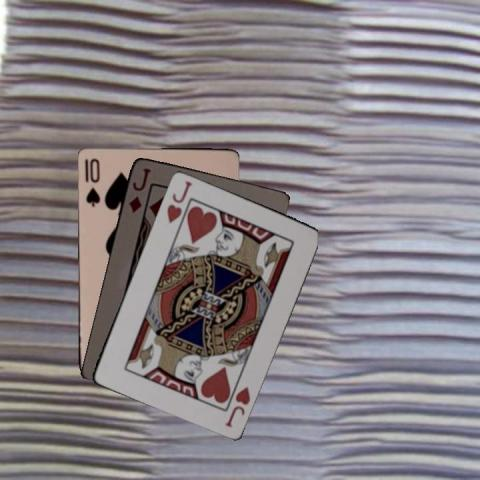10s: (83, 154, 101, 206)
Jd: (125, 165, 153, 214)
Jh: (163, 177, 194, 225), (222, 382, 251, 429)
